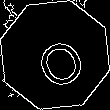O_NW: (24, 22, 86, 88)
